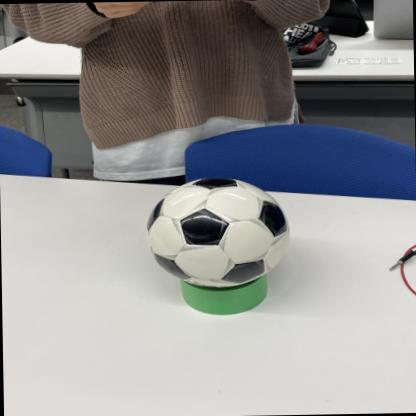ball: (145, 176, 295, 289)
